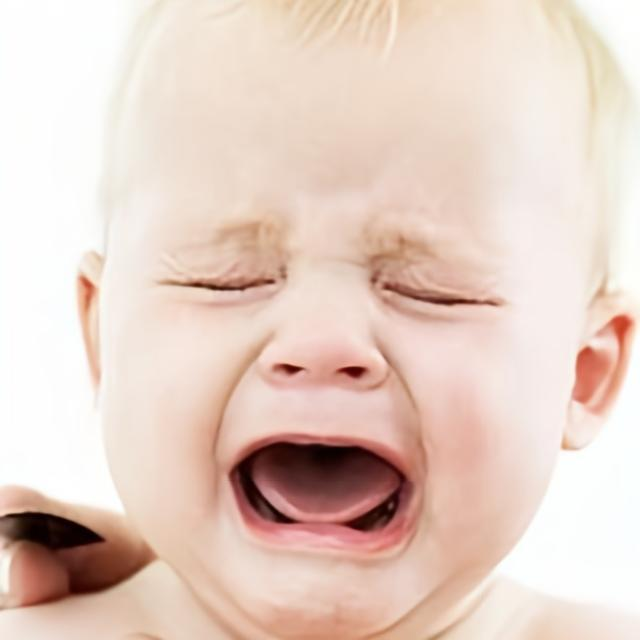sad: (102, 6, 574, 640)
